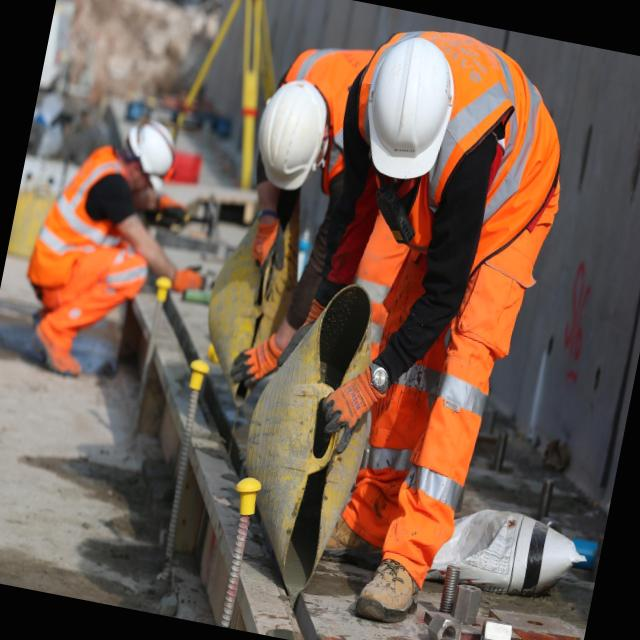helmet: (357, 31, 464, 192), (250, 71, 334, 200), (117, 115, 190, 190)
vest: (406, 44, 572, 403), (34, 148, 132, 313)
